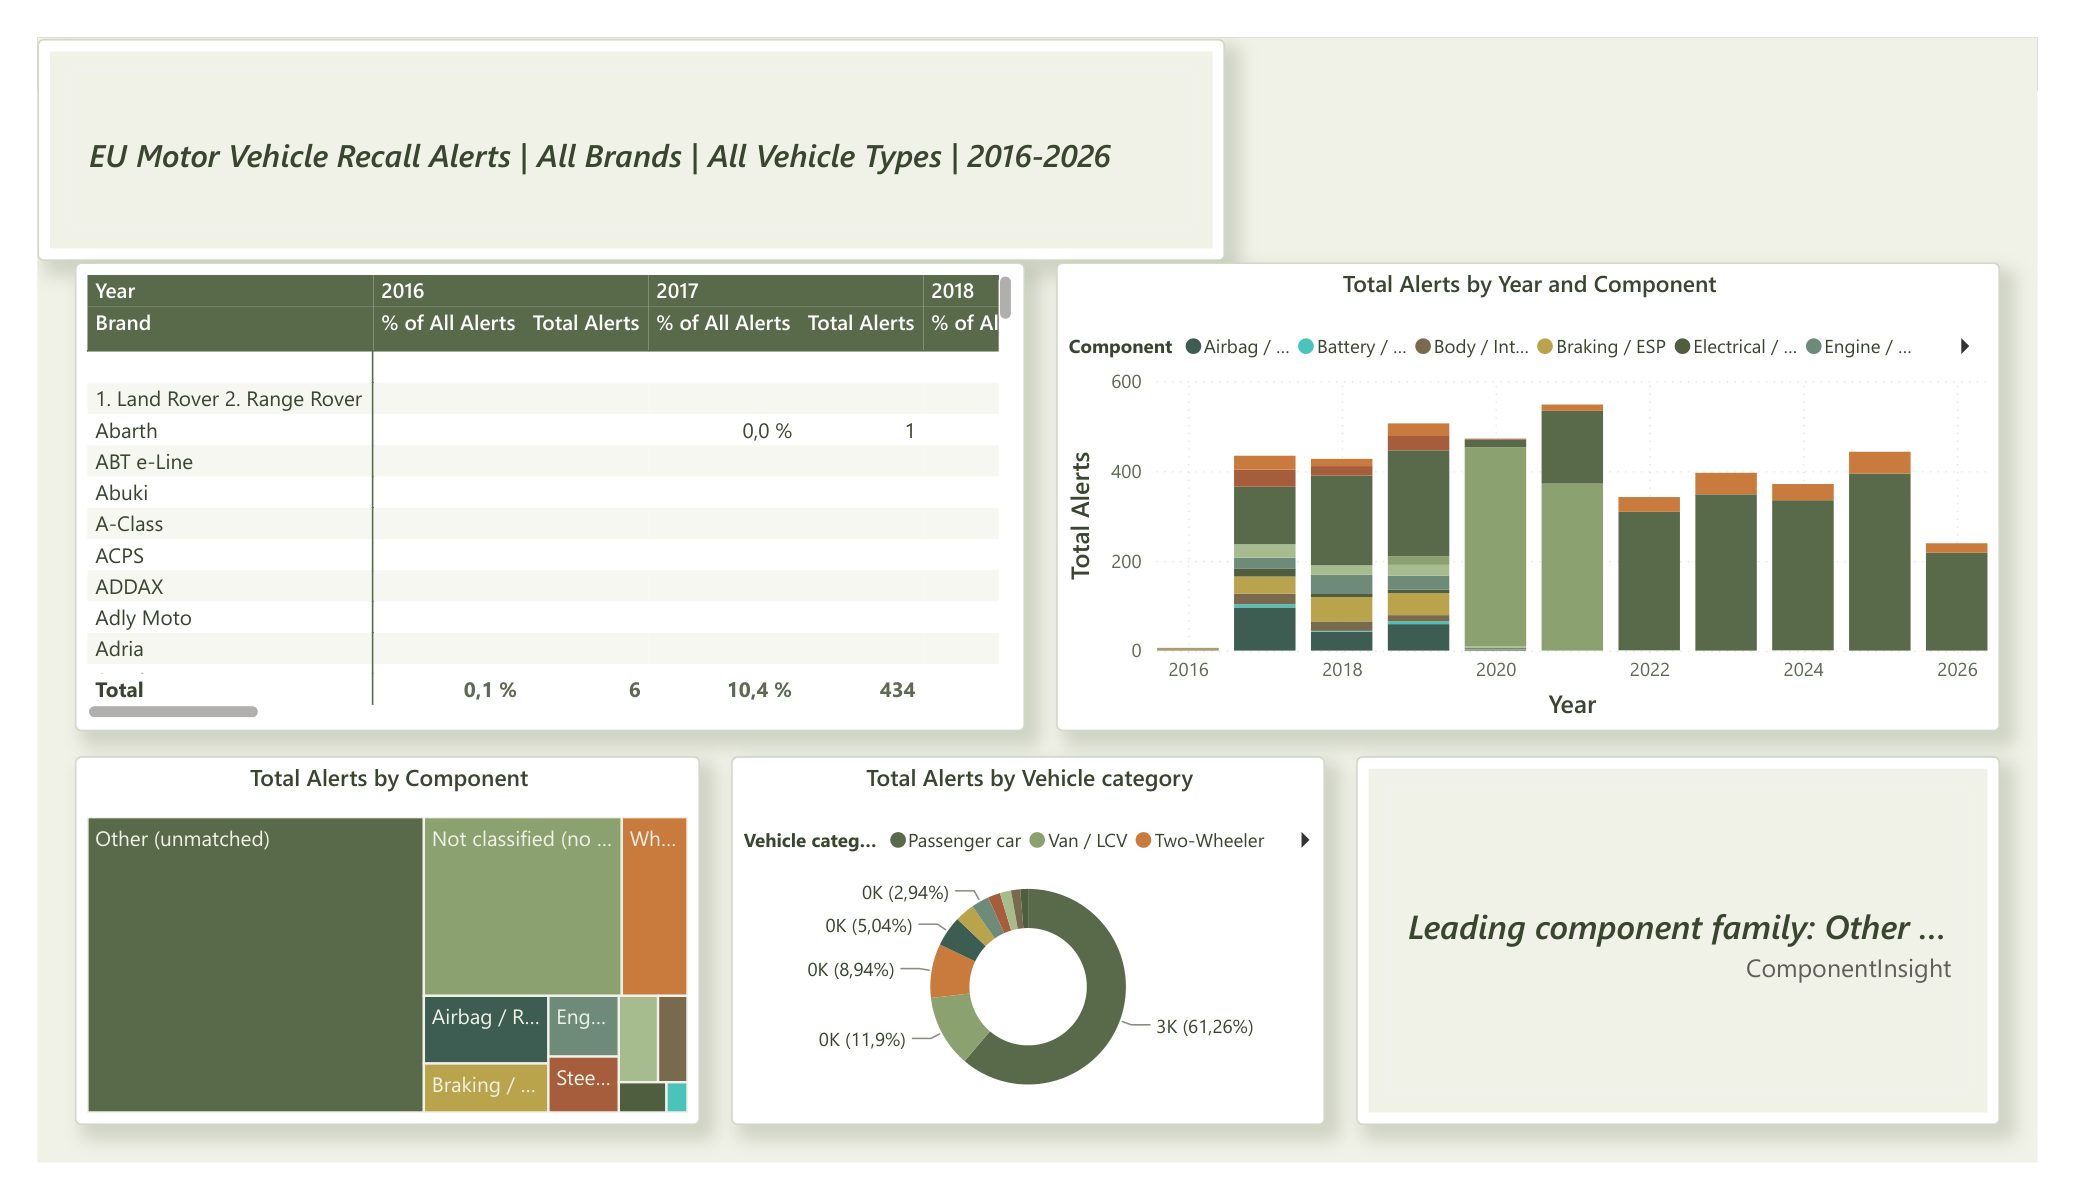

What the dashboard file says about the page in this screenshot:
{"tool":"powerbi","page":{"name":"Drivers","canvas":[1280,720],"ordinal":1},"visuals":[{"type":"cardVisual","fields":{"Data":["_Measures.Dynamic Title"]},"box":[0,1.2,759.9,142.3],"z":0},{"type":"donutChart","fields":{"Category":["Recall.Vehicle category"],"Y":["_Measures.Total Alerts"]},"box":[444,460,380,236],"z":1000},{"type":"cardVisual","fields":{"Data":["_Measures.ComponentInsight"]},"box":[844,460,412,236],"z":2000},{"type":"pivotTable","fields":{"Rows":["Recall.Brand"],"Columns":["DimYear.Year"],"Values":["_Measures.% of All Alerts","_Measures.Total Alerts"]},"box":[24,144,608,300],"z":3000},{"type":"columnChart","fields":{"Category":["DimYear.Year"],"Series":["Recall.Component"],"Y":["_Measures.Total Alerts"]},"box":[652,144,604,300],"z":4000},{"type":"treemap","fields":{"Group":["Recall.Component"],"Values":["_Measures.Total Alerts"]},"box":[24,460,400,236],"z":5000}]}

Visuals, with their boxes on the page's 1280x720 design canvas (x1, y1, x2, y2). These are canvas units, not pixel positions in the 2075x1200 screenshot, which may show the page scaled, cropped or inside an application window:
cardVisual - _Measures.Dynamic Title: box(0, 1, 760, 144)
donutChart - Recall.Vehicle category x _Measures.Total Alerts: box(444, 460, 824, 696)
cardVisual - _Measures.ComponentInsight: box(844, 460, 1256, 696)
pivotTable - Recall.Brand x DimYear.Year: box(24, 144, 632, 444)
columnChart - DimYear.Year x Recall.Component: box(652, 144, 1256, 444)
treemap - Recall.Component x _Measures.Total Alerts: box(24, 460, 424, 696)
